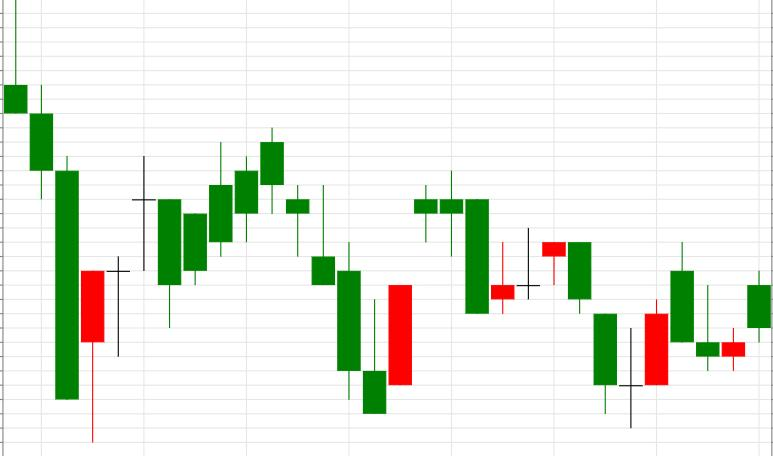inverse_hammer_rise: (261, 128, 386, 413)
morning_star_rise: (415, 172, 668, 427)
